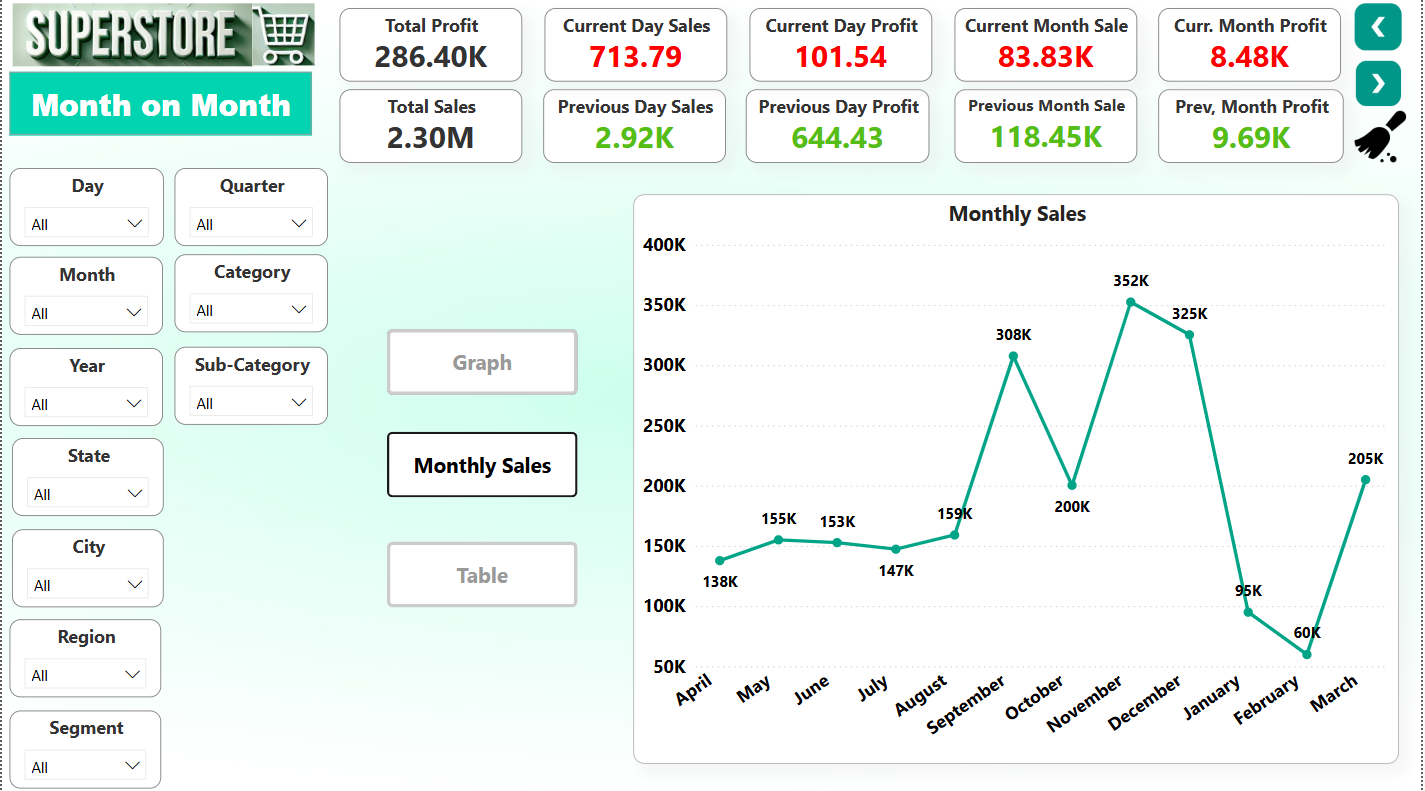

What the dashboard file says about the page in this screenshot:
{"tool":"powerbi","page":{"name":"Month on Month","canvas":[1280,720],"ordinal":7},"visuals":[{"type":"textbox","box":[7.2,66.4,272.7,57.7],"z":0},{"type":"shape","title":"Graph","box":[347.7,298.7,171.7,59.2],"z":2000},{"type":"slicer","title":"Day","fields":{"Values":["Fiscal year Table.Date.Variation.Date Hierarchy.Day"]},"box":[7.2,152.9,139,70],"z":3000},{"type":"shape","title":"Monthly Sales","box":[347.7,391,171.7,59.2],"z":5000},{"type":"slicer","title":"Quarter","fields":{"Values":["Fiscal year Table.Quarter Number"]},"box":[155.8,152.9,138.5,70.7],"z":6000},{"type":"shape","title":"Table","box":[347.7,490.3,171.7,59.2],"z":7000},{"type":"slicer","title":"Region","fields":{"Values":["Sample_ Superstore.Region"]},"box":[7.2,560.4,137.1,70.7],"z":9000},{"type":"slicer","title":"Segment","fields":{"Values":["Sample_ Superstore.Segment"]},"box":[7.2,642,137.1,70.7],"z":10000},{"type":"slicer","title":"City","fields":{"Values":["Sample_ Superstore.City"]},"box":[8.7,478.8,137.1,70.7],"z":11000},{"type":"slicer","title":"State","fields":{"Values":["Sample_ Superstore.State"]},"box":[8.7,397.1,137.1,70.7],"z":12000},{"type":"slicer","title":"Year","fields":{"Values":["Fiscal year Table.Fiscal Year"]},"box":[7.2,315.5,138.5,70.7],"z":13000},{"type":"slicer","title":"Month","fields":{"Values":["Fiscal year Table.Month Name"]},"box":[7.2,233.9,138.5,70.7],"z":14000},{"type":"slicer","title":"Sub-Category","fields":{"Values":["Sample_ Superstore.Sub-Category"]},"box":[155.8,314.5,138.5,70.7],"z":15000},{"type":"slicer","title":"Category","fields":{"Values":["Sample_ Superstore.Category"]},"box":[155.8,230.8,138.5,70.7],"z":16000},{"type":"card","title":"Total Profit","fields":{"Values":["Sample_ Superstore.Total Profit"]},"box":[304.4,8.7,164.5,66.4],"z":17000},{"type":"card","title":"Total Sales","fields":{"Values":["Sample_ Superstore.Total Sales"]},"box":[304.4,82.2,164.5,66.4],"z":18000},{"type":"card","title":"Previous Day Sales","fields":{"Values":["Sample_ Superstore.Previous Day Sales"]},"box":[487.7,82.2,164.5,66.4],"z":19000},{"type":"card","title":"Current Day Sales","fields":{"Values":["Sample_ Superstore.Current Date Sales"]},"box":[489.1,8.7,164.5,66.4],"z":20000},{"type":"card","title":"Previous Day Profit","fields":{"Values":["Sample_ Superstore.Previous Day Profit"]},"box":[670.9,82.2,165.9,66.4],"z":21000},{"type":"card","title":"Current Day Profit","fields":{"Values":["Sample_ Superstore.Current Day Profit"]},"box":[673.8,8.7,164.5,66.4],"z":22000},{"type":"card","title":"Previous Month Sale","fields":{"Values":["Sample_ Superstore.Previous Month Sales"]},"box":[858.4,82.2,164.5,66.4],"z":23000},{"type":"card","title":"Current Month Sale","fields":{"Values":["Sample_ Superstore.Current Month Sales (Selected)"]},"box":[858.4,8.7,164.5,66.4],"z":24000},{"type":"image","box":[0,0,235.2,66.4],"z":25000,"group":"g1"},{"type":"card","title":"Prev, Month Profit","fields":{"Values":["Sample_ Superstore.Previous Month Profit"]},"box":[1043.1,82.2,167.4,66.4],"z":25000},{"type":"card","title":"Curr. Month Profit","fields":{"Values":["Sample_ Superstore.Current Month Profit"]},"box":[1043.1,8.7,164.5,66.4],"z":26000},{"type":"image","box":[1207.6,51.9,67.8,50.5],"z":27000},{"type":"image","box":[1211.9,0,59.2,51.9],"z":28000},{"type":"tableEx","title":"Current and Previous Year Monthly Sales","fields":{"Values":["Fiscal year Table.Fiscal Month","Sample_ Superstore.CurrentYearSales","Sample_ Superstore.PY Sales","Sample_ Superstore.Sales Variance","Sample_ Superstore.Sales Variance %"]},"box":[570.8,167.7,687.7,509.2],"z":29000},{"type":"image","box":[218.9,0,69.7,66],"z":30000,"group":"g1"},{"type":"image","box":[1211.9,96.7,62,56.3],"z":32000},{"type":"group","id":"g1","title":"Group 1","box":[0,0,288.6,66.4],"z":33000}]}

Visuals, with their boxes in screenshot pixels (x1, y1, x2, y2), scaled from the page's 1280x720 canvas onto the 1425x791 screenshot:
textbox: {"left": 8, "top": 73, "right": 312, "bottom": 136}
"Graph" shape: {"left": 387, "top": 328, "right": 578, "bottom": 393}
"Day" slicer: {"left": 8, "top": 168, "right": 163, "bottom": 245}
"Monthly Sales" shape: {"left": 387, "top": 430, "right": 578, "bottom": 495}
"Quarter" slicer: {"left": 173, "top": 168, "right": 328, "bottom": 246}
"Table" shape: {"left": 387, "top": 539, "right": 578, "bottom": 604}
"Region" slicer: {"left": 8, "top": 616, "right": 161, "bottom": 693}
"Segment" slicer: {"left": 8, "top": 705, "right": 161, "bottom": 783}
"City" slicer: {"left": 10, "top": 526, "right": 162, "bottom": 604}
"State" slicer: {"left": 10, "top": 436, "right": 162, "bottom": 514}
"Year" slicer: {"left": 8, "top": 347, "right": 162, "bottom": 424}
"Month" slicer: {"left": 8, "top": 257, "right": 162, "bottom": 335}
"Sub-Category" slicer: {"left": 173, "top": 346, "right": 328, "bottom": 423}
"Category" slicer: {"left": 173, "top": 254, "right": 328, "bottom": 331}
"Total Profit" card: {"left": 339, "top": 10, "right": 522, "bottom": 83}
"Total Sales" card: {"left": 339, "top": 90, "right": 522, "bottom": 163}
"Previous Day Sales" card: {"left": 543, "top": 90, "right": 726, "bottom": 163}
"Current Day Sales" card: {"left": 545, "top": 10, "right": 728, "bottom": 83}
"Previous Day Profit" card: {"left": 747, "top": 90, "right": 932, "bottom": 163}
"Current Day Profit" card: {"left": 750, "top": 10, "right": 933, "bottom": 83}
"Previous Month Sale" card: {"left": 956, "top": 90, "right": 1139, "bottom": 163}
"Current Month Sale" card: {"left": 956, "top": 10, "right": 1139, "bottom": 83}
image: {"left": 0, "top": 0, "right": 262, "bottom": 73}
"Prev, Month Profit" card: {"left": 1161, "top": 90, "right": 1348, "bottom": 163}
"Curr. Month Profit" card: {"left": 1161, "top": 10, "right": 1344, "bottom": 83}
image: {"left": 1344, "top": 57, "right": 1420, "bottom": 112}
image: {"left": 1349, "top": 0, "right": 1415, "bottom": 57}
"Current and Previous Year Monthly Sales" tableEx: {"left": 635, "top": 184, "right": 1401, "bottom": 744}
image: {"left": 244, "top": 0, "right": 321, "bottom": 73}
image: {"left": 1349, "top": 106, "right": 1418, "bottom": 168}
"Group 1" group: {"left": 0, "top": 0, "right": 321, "bottom": 73}
